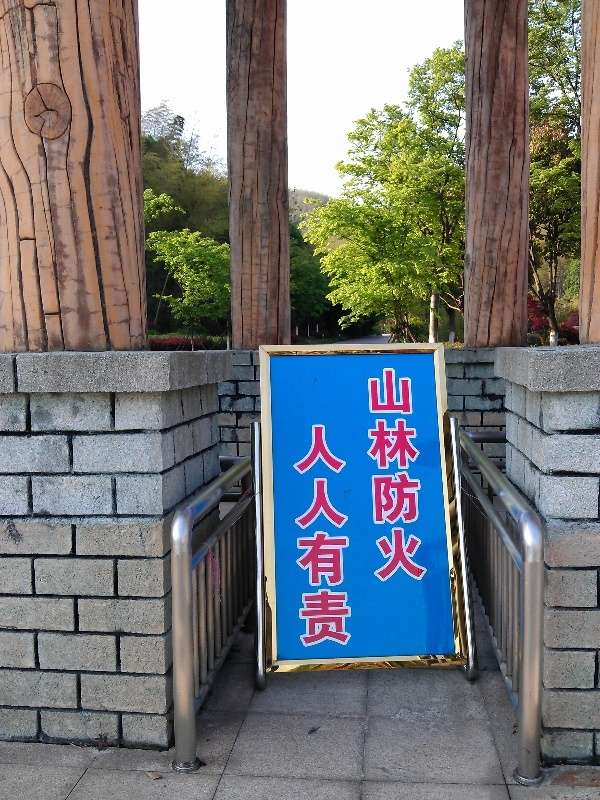text: (337, 424, 353, 645), (305, 424, 320, 645), (321, 424, 336, 645), (369, 367, 384, 583), (385, 367, 400, 583), (401, 367, 416, 583), (292, 424, 304, 645), (417, 367, 428, 583), (363, 367, 368, 583)
